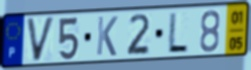2: (126, 12, 152, 58)
5: (57, 15, 81, 61)
8: (199, 9, 221, 54)
K: (95, 15, 120, 58)
L: (166, 11, 190, 54)
V: (24, 15, 57, 64)
